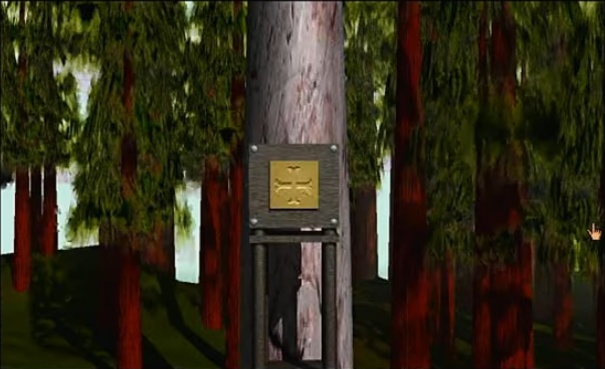Pointer: (583, 221, 605, 243)
